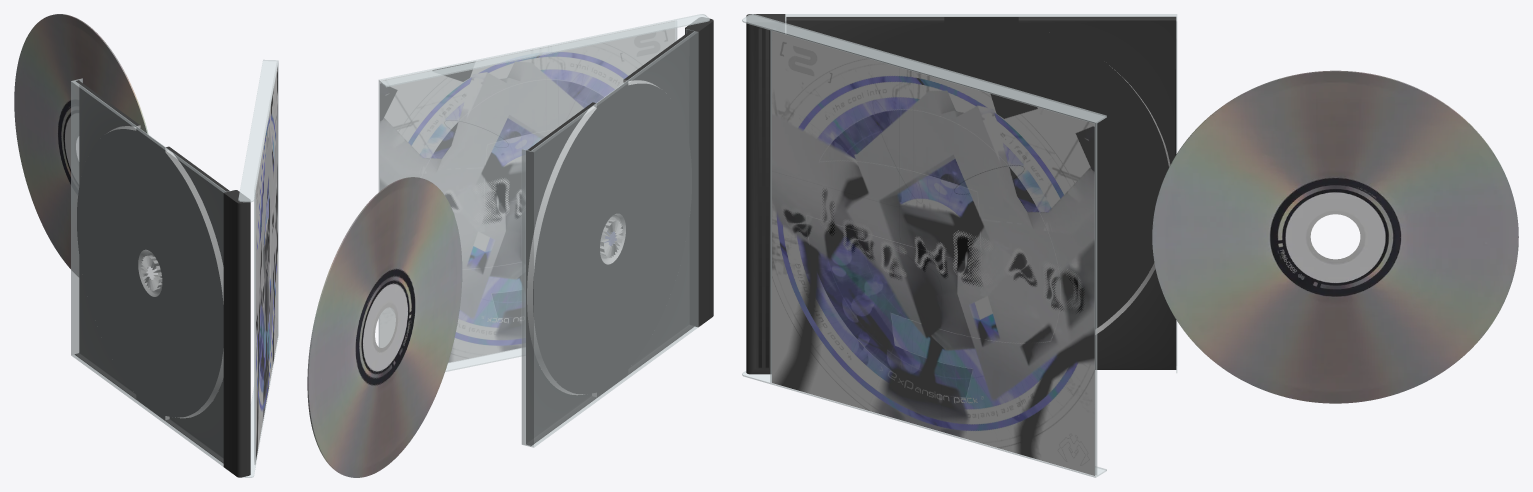
Rendered from cd_case.glb.
3 views of the same model, side by side, from view 1: azimuth 30°, elevation 25°; view 2: azimuth 150°, elevation 25°; view 3: azimuth 270°, elevation 25° (orthographic). The views are drawn at different scales.
Visible parts, largest first — view 1: Case Back_2, CD_1, Case Front_0; view 2: Case Back_2, Case Front_0, CD_1; view 3: Case Front_0, CD_1, Case Back_2.
Boxes of the visible parts, x1,y1,x2,y2 form: Case Back_2: (71, 78, 250, 477); CD_1: (14, 14, 148, 276); Case Front_0: (238, 59, 278, 477); Case Back_2: (521, 17, 713, 447); Case Front_0: (378, 14, 709, 371); CD_1: (307, 177, 462, 477); Case Front_0: (742, 14, 1106, 477); CD_1: (1152, 70, 1518, 403); Case Back_2: (746, 14, 1177, 374).
Size of what is drawn, in the model's own units: 1.33 by 2 by 3.96.
7 materials, 3 textured.
